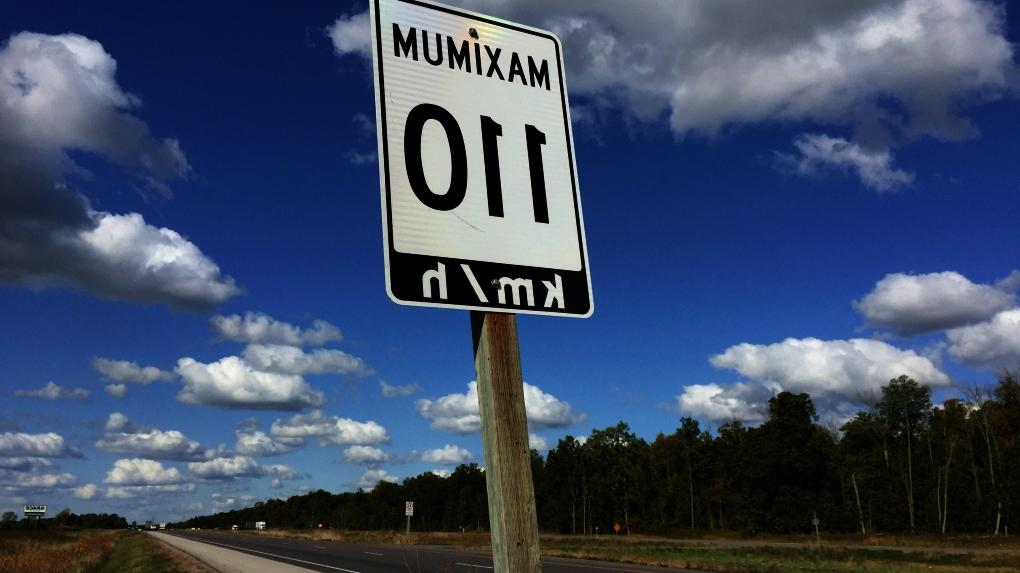speed limit sign: (378, 11, 573, 300)
